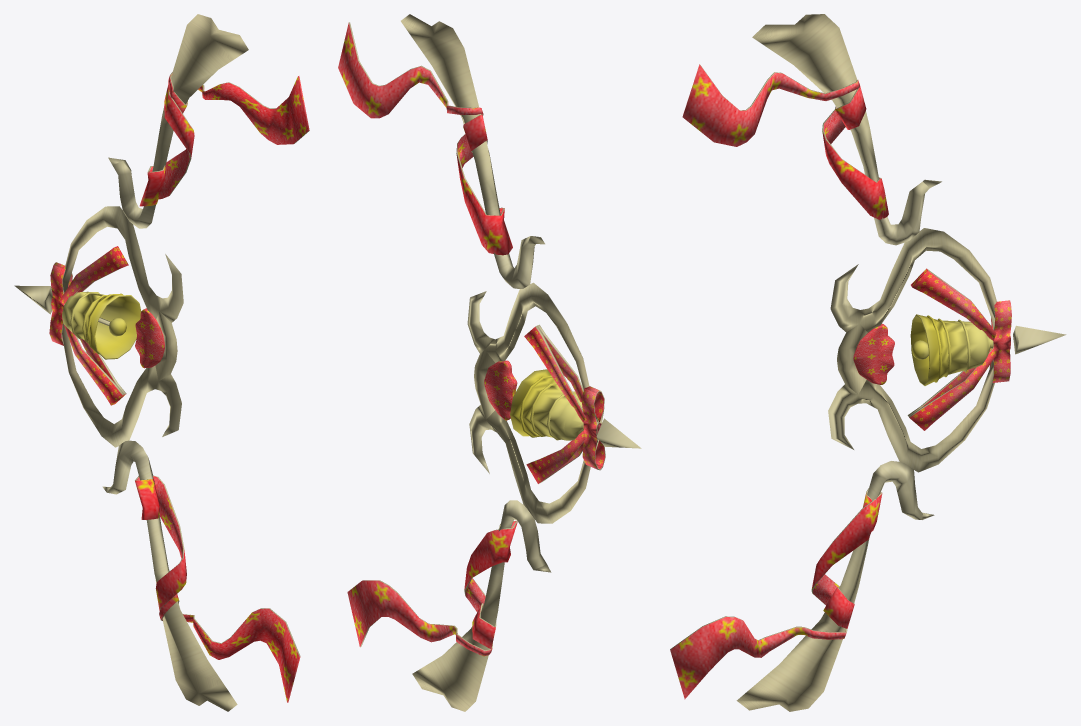
The model's file is BowObject_3d_008.fbx.
3 renders of one model, left to right at view 1: azimuth 30°, elevation 25°; view 2: azimuth 210°, elevation 25°; view 3: azimuth 270°, elevation 25°, orthographic. The views are drawn at different scales.
Parts seen in each view (by area): view 1: Line010; view 2: Line010; view 3: Line010.
Part boxes in pixels (x1,y1,x2,y2): Line010: (14,14,309,711); Line010: (338,14,641,711); Line010: (670,14,1066,711).
Bounding box in the file's own units: 0.8948 × 5.21 × 2.65.
